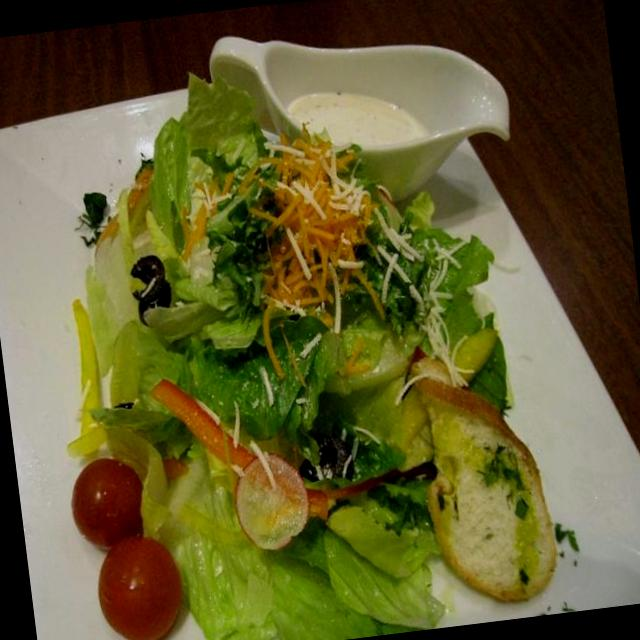Green Salad: (58, 76, 528, 638)
